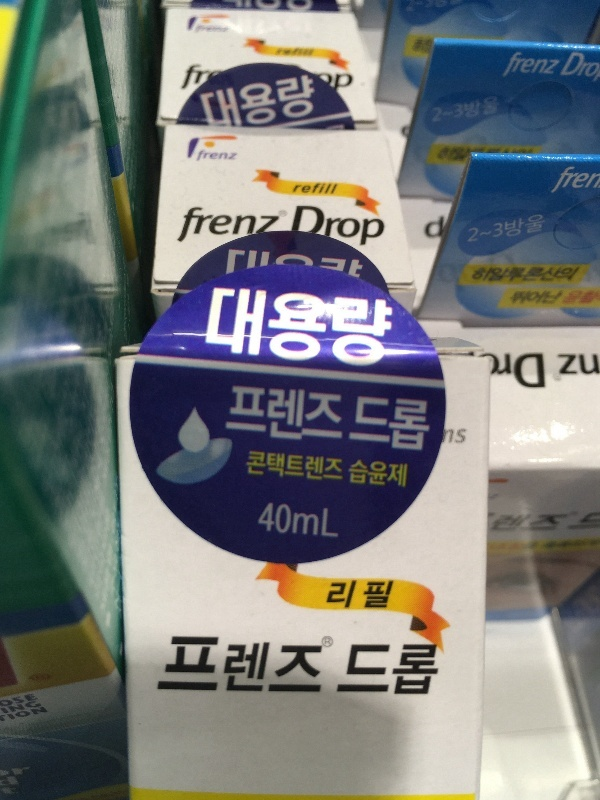text: (49, 2, 64, 687), (65, 2, 80, 687), (81, 2, 96, 687), (97, 2, 112, 687), (113, 2, 128, 687), (129, 2, 144, 687), (145, 2, 160, 687), (161, 2, 163, 687), (225, 288, 240, 370), (241, 288, 256, 370), (257, 288, 272, 370), (273, 288, 288, 370), (289, 288, 304, 370), (305, 288, 320, 370), (321, 288, 336, 370), (337, 288, 352, 370), (353, 288, 368, 370), (369, 288, 384, 370), (241, 386, 256, 449), (257, 386, 272, 449), (273, 386, 288, 449), (289, 386, 304, 449), (305, 386, 320, 449), (321, 386, 336, 449), (209, 73, 224, 135), (225, 73, 240, 135), (241, 73, 256, 135), (257, 73, 272, 135), (273, 73, 288, 135), (289, 73, 304, 135), (177, 635, 192, 694), (193, 635, 208, 694), (209, 635, 224, 694), (225, 635, 240, 694), (241, 635, 256, 694), (257, 635, 272, 694), (273, 635, 288, 694), (289, 635, 304, 694), (305, 635, 320, 694), (369, 397, 384, 456), (385, 397, 400, 456), (401, 397, 416, 456), (417, 397, 432, 456), (214, 288, 224, 370), (353, 644, 368, 694), (369, 644, 384, 694), (385, 644, 400, 694), (401, 644, 416, 694), (417, 644, 432, 694), (47, 2, 48, 687), (305, 73, 316, 135), (481, 349, 496, 394), (497, 349, 512, 394), (513, 349, 528, 394), (529, 349, 544, 394), (385, 288, 393, 370), (357, 397, 368, 456), (305, 206, 320, 249), (321, 206, 336, 249), (337, 206, 352, 249), (353, 206, 368, 249), (369, 206, 384, 249), (199, 73, 208, 135), (193, 206, 208, 242), (209, 206, 224, 242), (225, 206, 240, 242), (241, 206, 256, 242), (257, 206, 272, 242), (468, 349, 480, 394), (577, 49, 592, 85), (273, 503, 288, 538), (289, 503, 304, 538), (305, 503, 320, 538), (321, 503, 336, 538), (529, 212, 545, 244), (481, 212, 496, 244), (497, 212, 512, 244), (513, 212, 528, 244), (193, 59, 208, 89), (577, 164, 592, 194), (233, 386, 240, 449), (257, 452, 272, 481), (273, 452, 288, 481), (289, 452, 304, 481), (305, 452, 320, 481), (321, 452, 336, 481), (241, 251, 256, 280), (257, 251, 272, 280), (273, 251, 288, 280), (289, 251, 304, 280), (305, 251, 320, 280), (321, 251, 336, 280), (337, 251, 352, 280), (337, 580, 352, 608), (353, 580, 368, 608), (369, 580, 384, 608), (209, 59, 223, 89), (353, 460, 368, 487), (369, 460, 384, 487), (385, 460, 400, 487), (433, 95, 448, 122), (449, 95, 464, 122), (465, 95, 480, 122), (481, 95, 496, 122), (337, 386, 343, 449), (529, 51, 544, 76), (545, 51, 560, 76), (469, 212, 480, 244), (514, 51, 528, 76), (433, 644, 440, 694), (262, 503, 272, 538), (353, 251, 365, 280), (561, 354, 576, 375), (577, 354, 592, 375), (297, 206, 304, 249), (566, 164, 576, 194), (230, 251, 240, 280), (513, 512, 528, 531), (529, 512, 544, 531), (545, 512, 560, 531), (561, 512, 576, 531), (577, 512, 592, 531), (417, 37, 433, 54), (321, 74, 336, 92), (337, 74, 352, 92), (498, 512, 512, 531), (209, 21, 224, 38), (385, 580, 394, 608), (273, 206, 280, 242), (433, 216, 444, 238), (577, 289, 592, 305), (402, 123, 416, 140), (449, 147, 464, 162), (465, 147, 480, 162), (481, 147, 496, 162), (497, 147, 512, 162), (513, 147, 528, 162), (481, 267, 496, 282), (497, 267, 512, 282), (513, 267, 528, 282), (529, 267, 544, 282), (545, 267, 560, 282), (561, 267, 576, 282), (1, 693, 16, 708), (17, 693, 32, 708), (593, 49, 599, 85), (449, 429, 464, 443), (593, 164, 600, 194), (196, 21, 208, 38), (249, 452, 256, 481), (1, 702, 16, 715), (17, 702, 32, 715), (17, 708, 32, 721), (401, 460, 408, 487), (33, 708, 47, 721), (305, 183, 320, 195), (321, 183, 336, 195), (529, 291, 544, 303), (545, 291, 560, 303), (417, 1, 432, 13), (433, 1, 448, 13), (187, 206, 192, 242), (1, 766, 16, 778), (17, 766, 32, 778), (173, 635, 176, 694), (337, 452, 343, 481), (514, 291, 528, 303), (209, 150, 224, 161), (241, 1, 256, 11), (257, 1, 272, 11), (273, 1, 288, 11), (289, 1, 304, 11), (593, 354, 600, 375), (593, 512, 600, 531), (225, 150, 237, 161), (561, 540, 576, 548), (577, 540, 592, 548), (33, 702, 42, 715), (593, 289, 600, 305), (332, 580, 336, 608), (427, 216, 432, 238), (449, 1, 458, 13), (573, 49, 576, 85), (289, 49, 304, 56), (441, 147, 448, 162), (1, 715, 16, 722), (497, 543, 512, 550), (8, 708, 16, 721), (408, 1, 416, 13), (548, 540, 560, 548), (33, 675, 48, 681), (33, 693, 39, 708), (325, 637, 336, 645), (225, 21, 230, 38), (297, 183, 304, 195), (513, 543, 525, 550), (571, 289, 576, 305), (529, 542, 539, 550), (201, 150, 208, 161), (1, 788, 16, 793), (488, 494, 496, 503), (305, 1, 312, 11), (278, 49, 288, 56), (337, 503, 339, 538), (577, 156, 593, 160), (305, 49, 314, 56), (234, 1, 240, 11), (529, 147, 533, 162), (476, 267, 480, 282), (497, 155, 512, 159), (513, 155, 528, 159), (545, 156, 560, 160), (561, 156, 576, 160), (321, 635, 322, 694), (444, 429, 448, 443), (488, 543, 496, 550), (593, 540, 600, 548), (497, 95, 499, 122), (488, 511, 496, 517), (577, 267, 580, 282), (545, 349, 546, 394), (385, 206, 386, 249), (558, 354, 560, 375), (280, 211, 288, 216), (529, 155, 538, 159), (318, 74, 320, 92), (191, 59, 192, 89), (465, 429, 467, 443), (351, 460, 352, 487), (561, 291, 563, 303), (353, 74, 354, 92), (492, 155, 496, 159), (337, 183, 338, 195), (30, 675, 32, 681), (49, 675, 51, 681), (542, 156, 544, 160), (527, 542, 528, 550)
